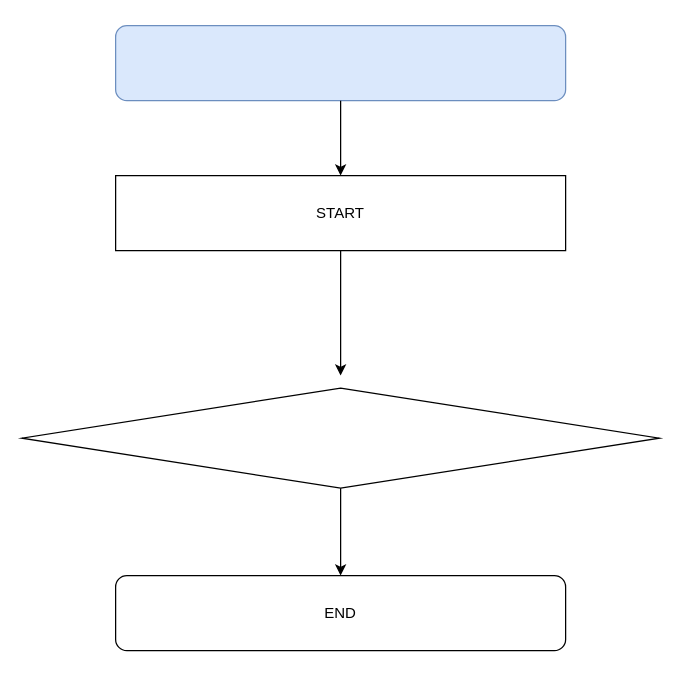
Some shapes in this 681 by 673 pixel diagram are drawn without their labels. Each missing label, with the box of its shape:
READ buy products: (114, 24, 566, 101)
WHILE (ALL PRODUCT BOUGHT) && buy products: (21, 387, 659, 488)
